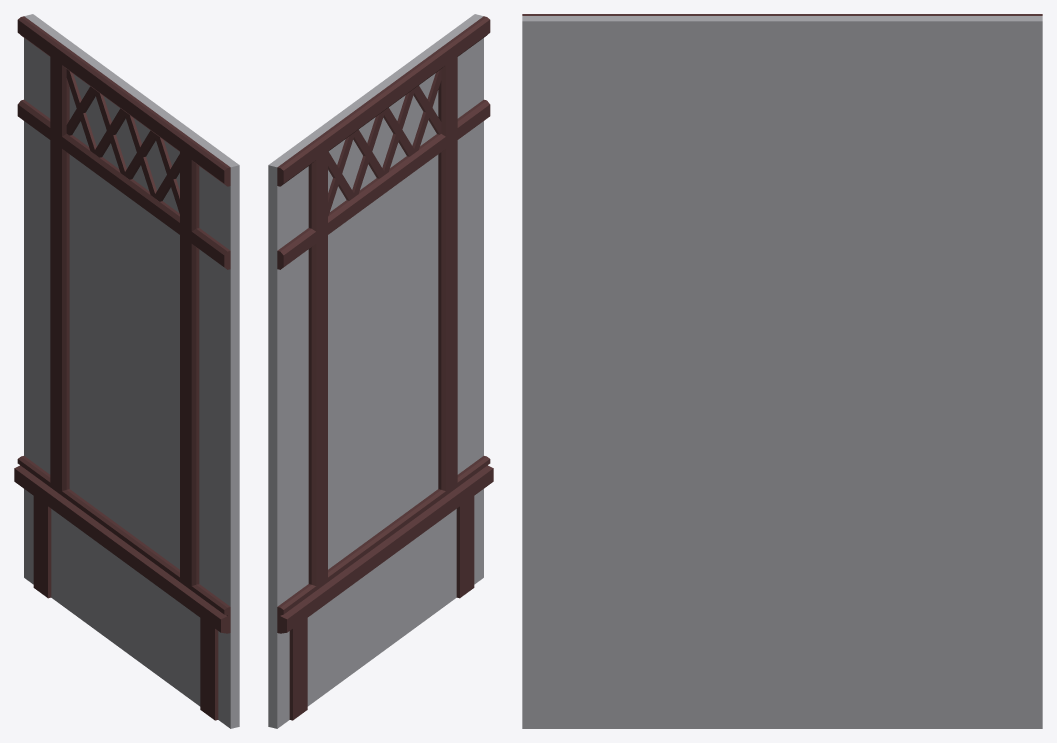
Rendered from Wall_blank_Slum.fbx.
3 renders of one model, left to right at view 1: azimuth 30°, elevation 25°; view 2: azimuth 150°, elevation 25°; view 3: azimuth 270°, elevation 25°, orthographic. The views are drawn at different scales.
Parts seen in each view (by area): view 1: Wall_blank_Slum; view 2: Wall_blank_Slum; view 3: Wall_blank_Slum.
Boxes of the visible parts, x1,y1,x2,y2 form: Wall_blank_Slum: (14, 14, 239, 728); Wall_blank_Slum: (268, 14, 493, 728); Wall_blank_Slum: (522, 14, 1042, 728).
Size of the model in its own units: 10.53 by 200 by 300.
